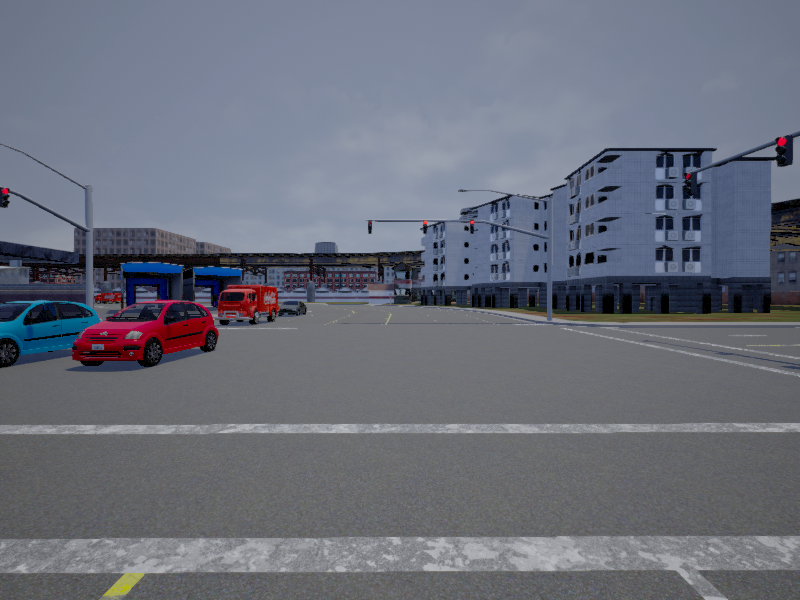Benign: (70, 301, 219, 366), (1, 300, 107, 367), (216, 287, 280, 322), (279, 299, 307, 318)
